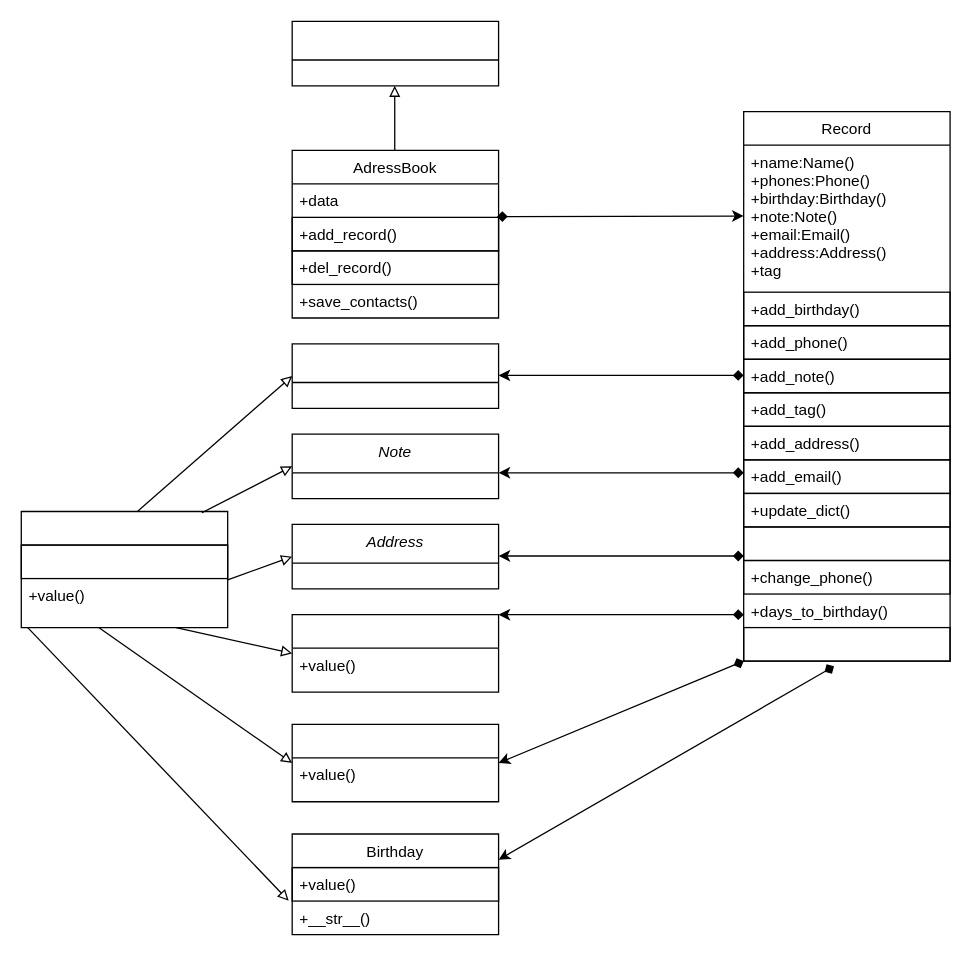
Some shapes in this 971 by 956 pixel diagram are drawn without their labels. Each missing label, with the box of its shape:
+delete_phone(): (742, 526, 950, 561)
+interval_birthday: (742, 626, 950, 661)
+value: (20, 544, 228, 579)
Email: (291, 613, 499, 692)
Field: (20, 510, 228, 628)
Name: (291, 342, 499, 408)
Phone: (291, 723, 499, 802)
UserDict: (291, 20, 499, 86)
